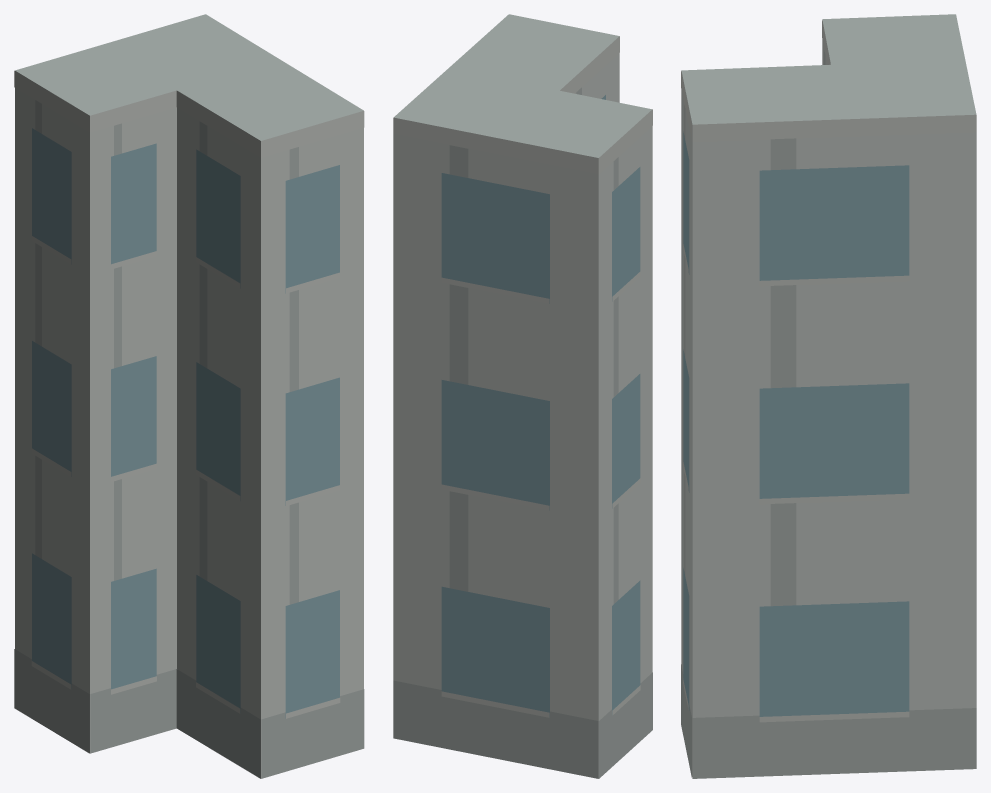
The model's file is survey-upis-32633669.glb.
The picture shows the model from 3 angles, left to right: view 1: azimuth 30°, elevation 25°; view 2: azimuth 150°, elevation 25°; view 3: azimuth 270°, elevation 25°; orthographic projection. The views are drawn at different scales.
Parts seen in each view (by area): view 1: survey-upis-32633669.tmp; view 2: survey-upis-32633669.tmp; view 3: survey-upis-32633669.tmp.
Part boxes in pixels (bbox=[...]): survey-upis-32633669.tmp: bbox=[14, 14, 364, 778]; survey-upis-32633669.tmp: bbox=[393, 14, 652, 778]; survey-upis-32633669.tmp: bbox=[681, 14, 976, 778].
Size of the model in its own units: 3.33 by 9.15 by 3.75.
